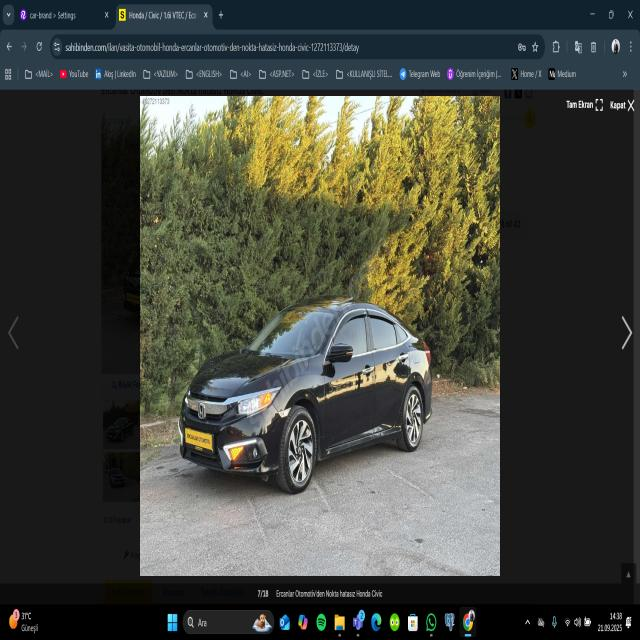honda: (195, 396, 208, 426)
